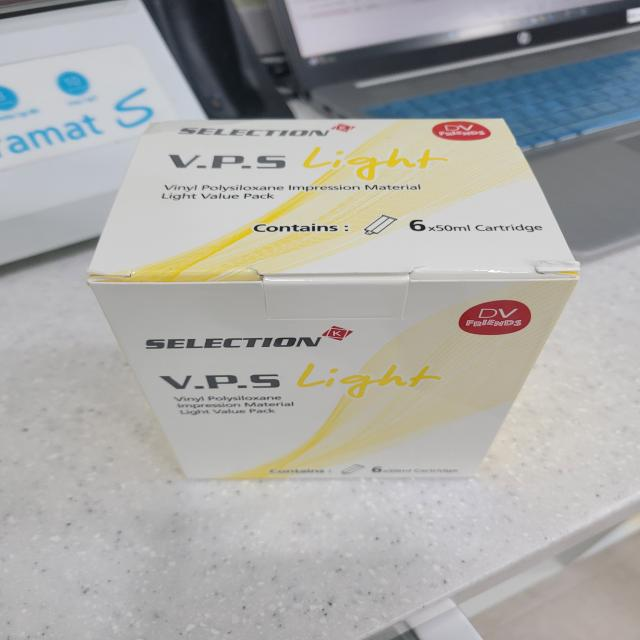impression: (75, 105, 612, 518)
